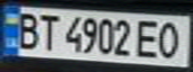0: (96, 16, 115, 56)
2: (112, 16, 136, 57)
4: (60, 14, 84, 53)
9: (78, 15, 100, 55)
B: (12, 9, 42, 51)
E: (133, 17, 163, 60)
O: (154, 19, 187, 60)
T: (33, 11, 60, 52)
